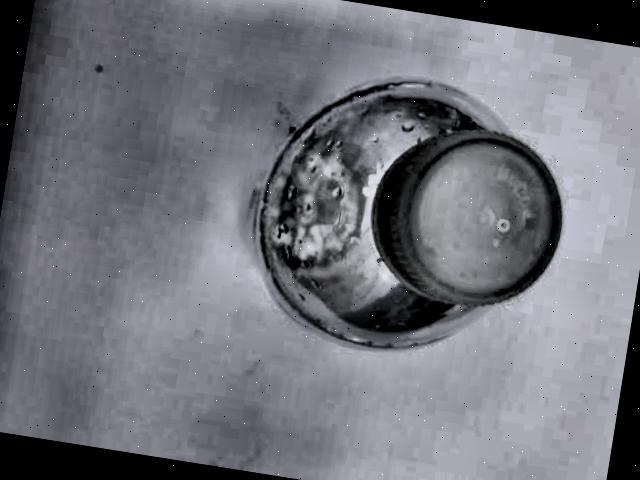Bottles: (232, 42, 597, 377)
